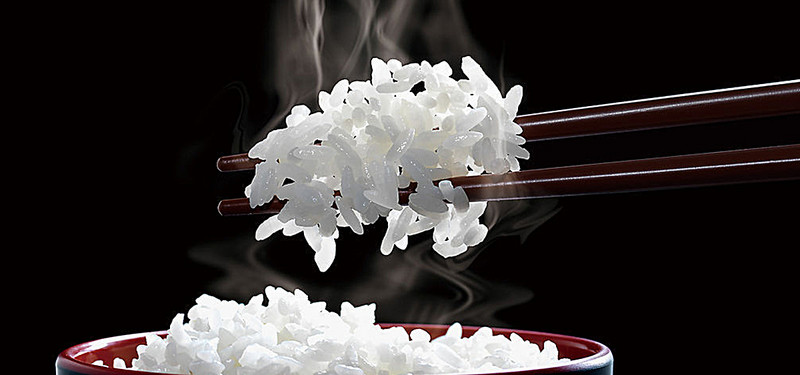plain rice: (261, 69, 513, 248), (140, 297, 553, 375)
